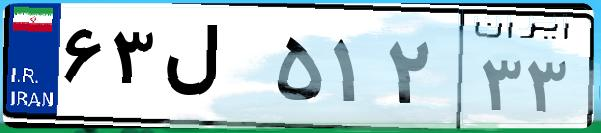1: (330, 28, 385, 110)
2: (385, 28, 445, 110)
3: (475, 38, 525, 113), (525, 38, 570, 115), (110, 28, 158, 98)
5: (270, 28, 330, 110)
6: (57, 26, 110, 100)
ل: (158, 20, 270, 120)
